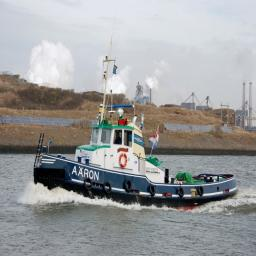tugboat: (33, 34, 240, 215)
